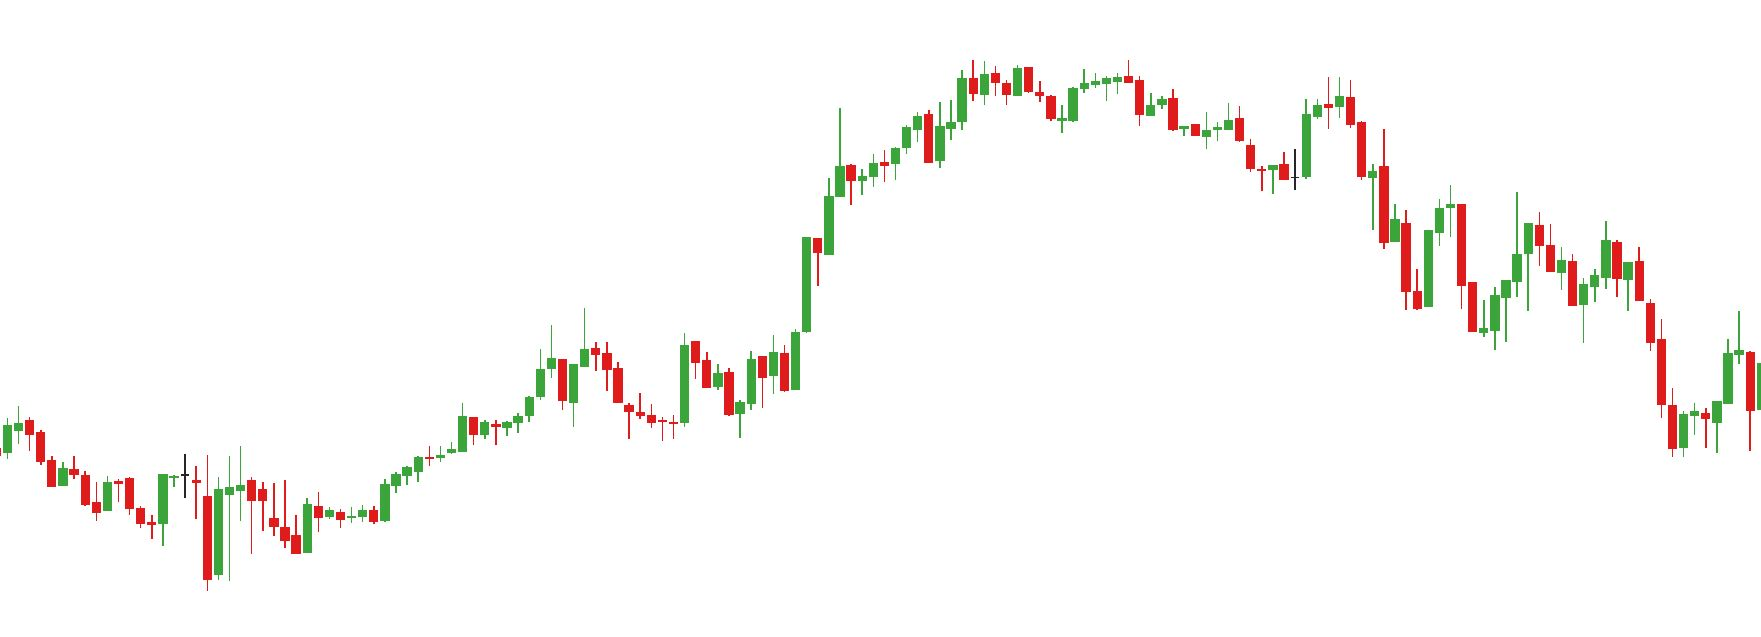buy: (1412, 242, 1500, 358)
sell: (1221, 75, 1356, 160)
